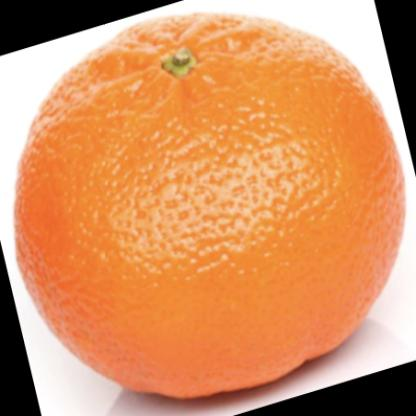fresh: (19, 14, 408, 399)
